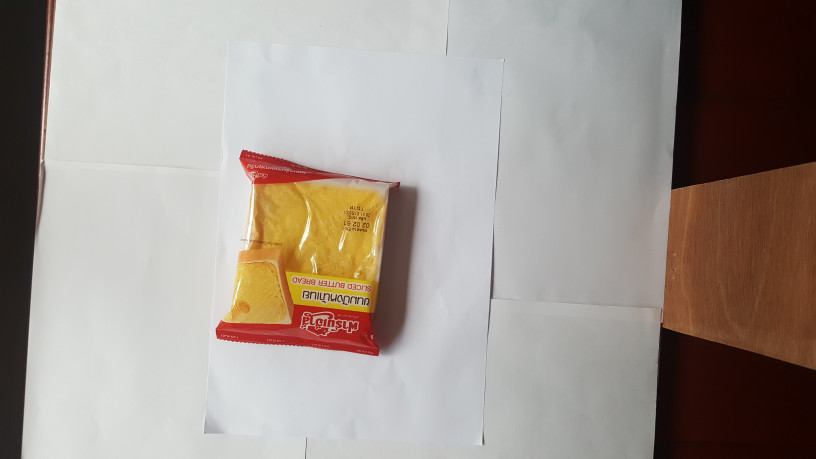farmhouse-bread-butter: (213, 139, 405, 359)
